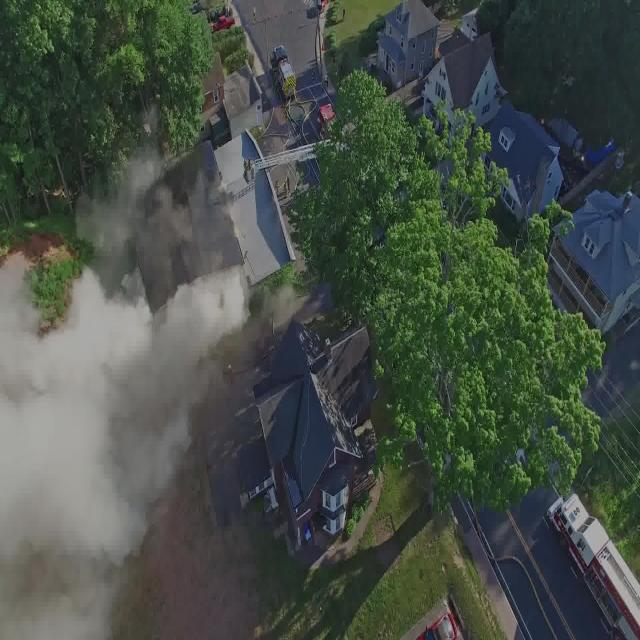Smoke: (0, 218, 245, 640)
